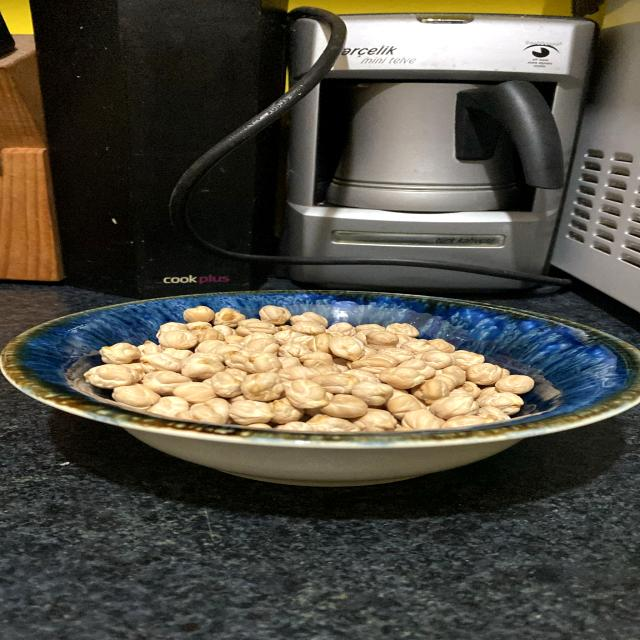chickpeas: (16, 273, 640, 490)
